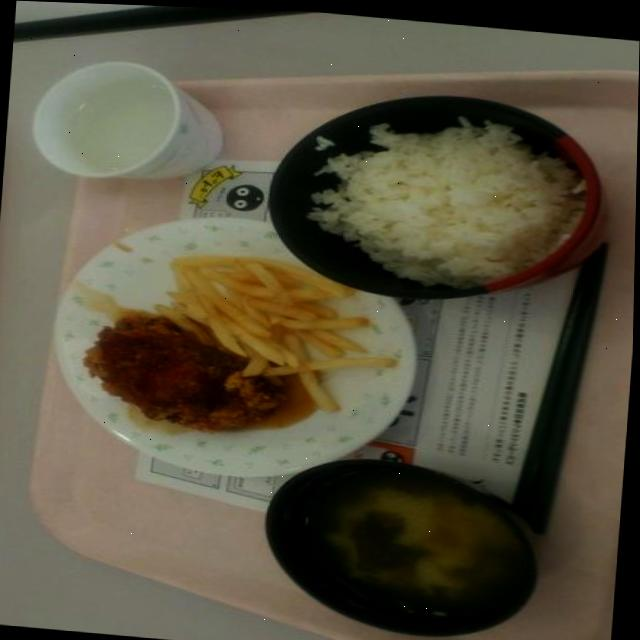炸货点心: (142, 233, 397, 412)
米饭主食: (249, 61, 631, 324)
